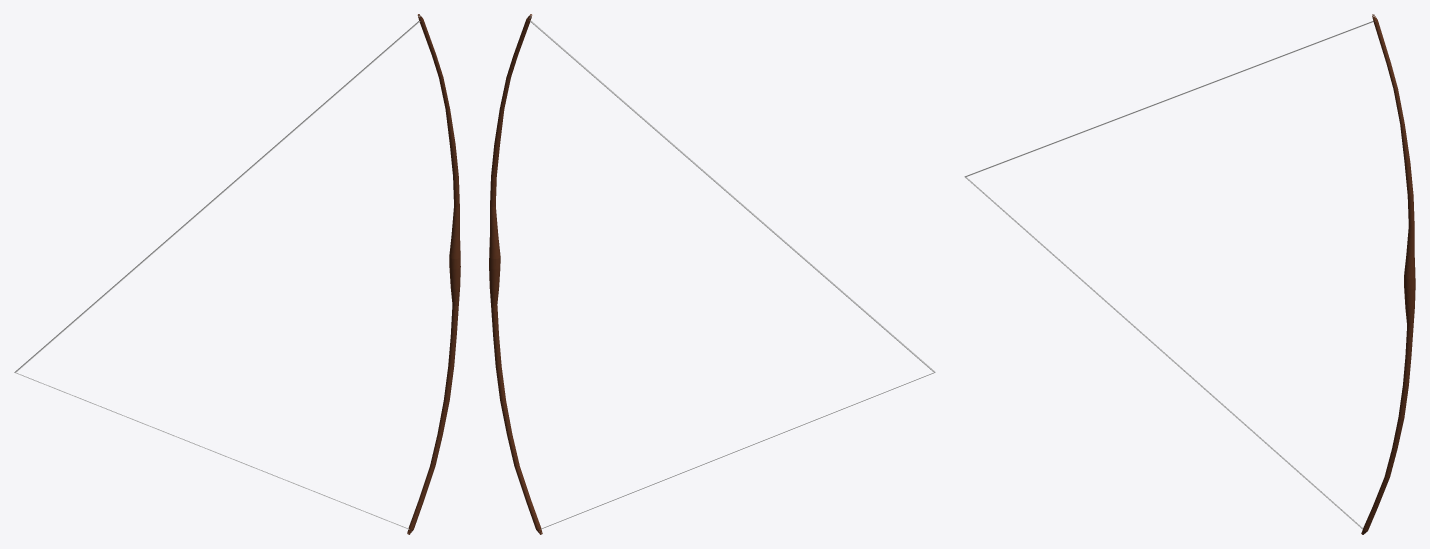
File: bow_long.glb
3 views of the same model, side by side, from view 1: azimuth 30°, elevation 25°; view 2: azimuth 150°, elevation 25°; view 3: azimuth 330°, elevation 25° (orthographic).
Parts seen in each view (by area): view 1: Cylinder_0, Cylinder_1; view 2: Cylinder_0, Cylinder_1; view 3: Cylinder_0, Cylinder_1.
Part boxes in pixels (box(x1,y1,x2,y2)): Cylinder_0: box(407, 14, 460, 534); Cylinder_1: box(14, 20, 420, 529); Cylinder_0: box(489, 14, 542, 534); Cylinder_1: box(530, 20, 935, 529); Cylinder_0: box(1361, 14, 1415, 534); Cylinder_1: box(964, 21, 1373, 529).
Size of the model in its own units: 8.67 by 9.62 by 0.1926.
